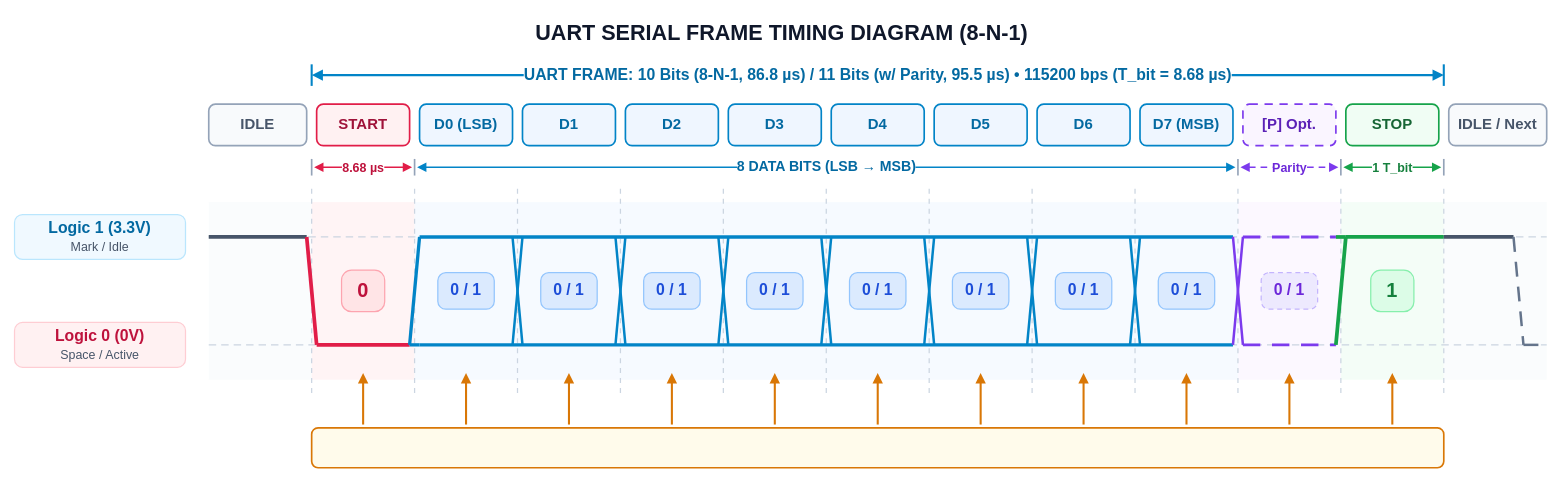
This 1564x482 diagram has some shape labels left out. Each missing label, with the centre of its shape:
Next Frame: the point at 1494,290
Rx Sampling Strobe: 50% T_bit Midpoint (16× Oversampling Clock): the point at 877,447
